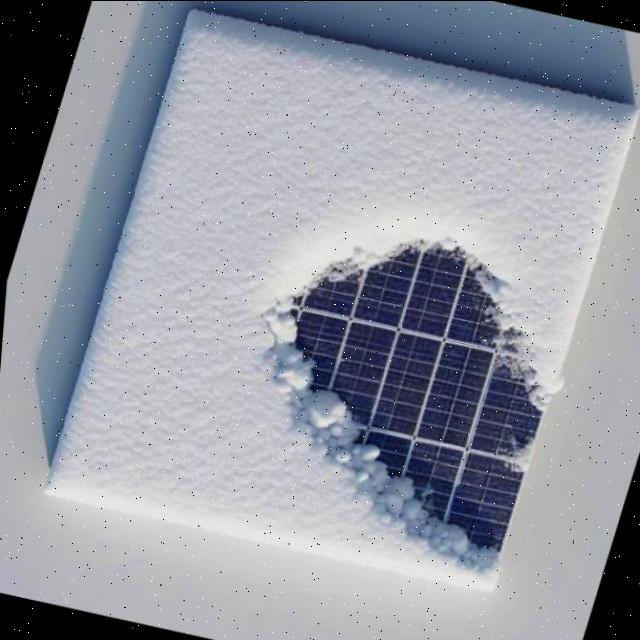Anomaly Solar Panel: (39, 6, 630, 591)
Snow: (40, 6, 632, 591)
